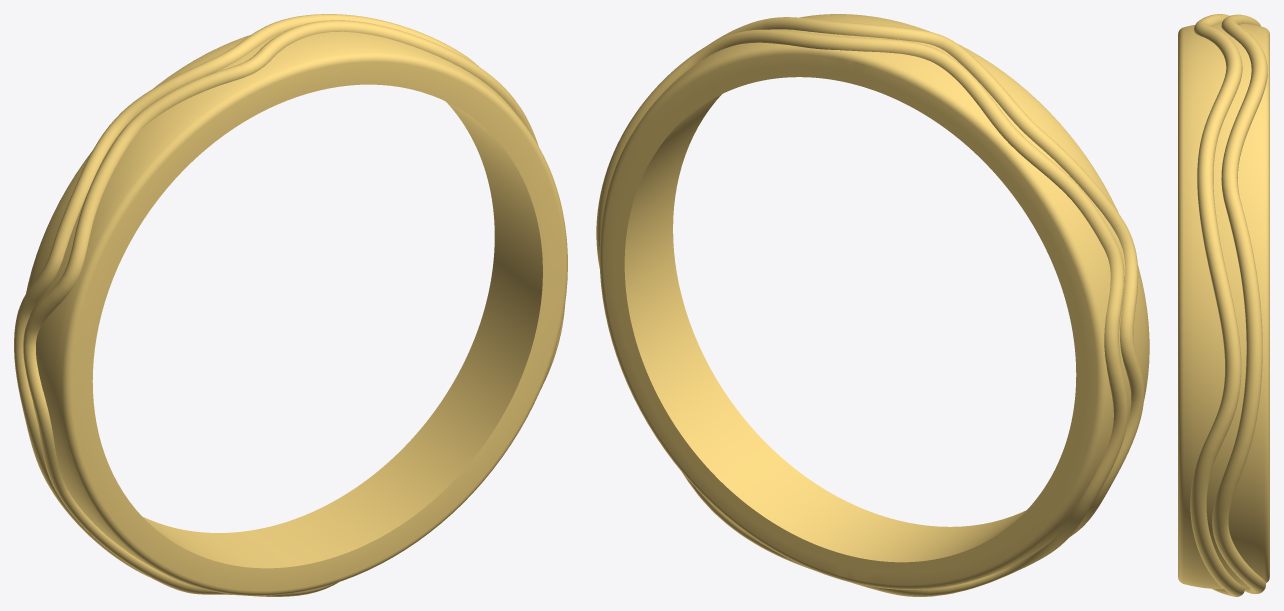
Rendered from JessicaWaveYGmatte.glb.
The picture shows the model from 3 angles, left to right: view 1: azimuth 30°, elevation 25°; view 2: azimuth 150°, elevation 25°; view 3: azimuth 270°, elevation 25°; orthographic projection. The views are drawn at different scales.
Visible parts, largest first — view 1: Jessica YG for 3d model; view 2: Jessica YG for 3d model; view 3: Jessica YG for 3d model.
Boxes of the visible parts, box(x1,y1,x2,y2) form: Jessica YG for 3d model: box(14, 14, 567, 596); Jessica YG for 3d model: box(596, 14, 1149, 596); Jessica YG for 3d model: box(1178, 14, 1269, 596).
Bounding box in the file's own units: 22.84 × 22.8 × 3.6.
